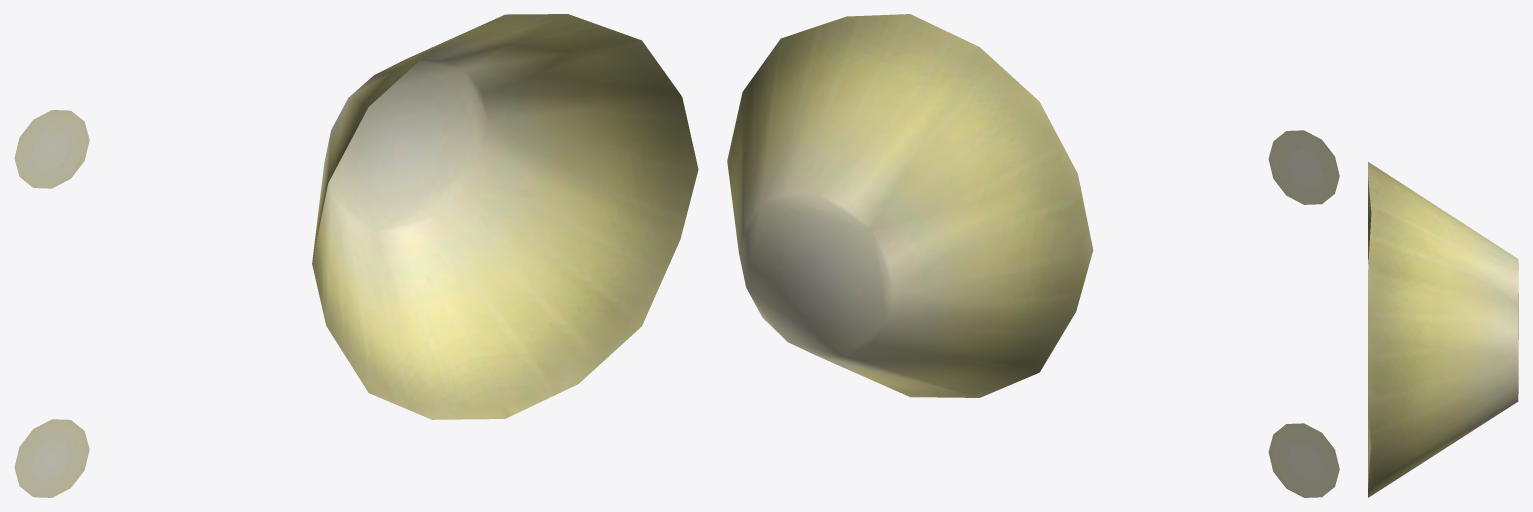
File: star_destroyer_space_engine1_on_l1.fbx
3 views of the same model, side by side, from view 1: azimuth 30°, elevation 25°; view 2: azimuth 150°, elevation 25°; view 3: azimuth 270°, elevation 25° (orthographic). The views are drawn at different scales.
Visible parts, largest first — view 1: mesh_node; view 2: mesh_node; view 3: mesh_node.
Boxes of the visible parts, <box> form: mesh_node: <box>14,14,698,497</box>; mesh_node: <box>727,14,1339,497</box>; mesh_node: <box>1368,162,1518,497</box>.
Bounding box in the file's own units: 264 × 153 × 68.08.
